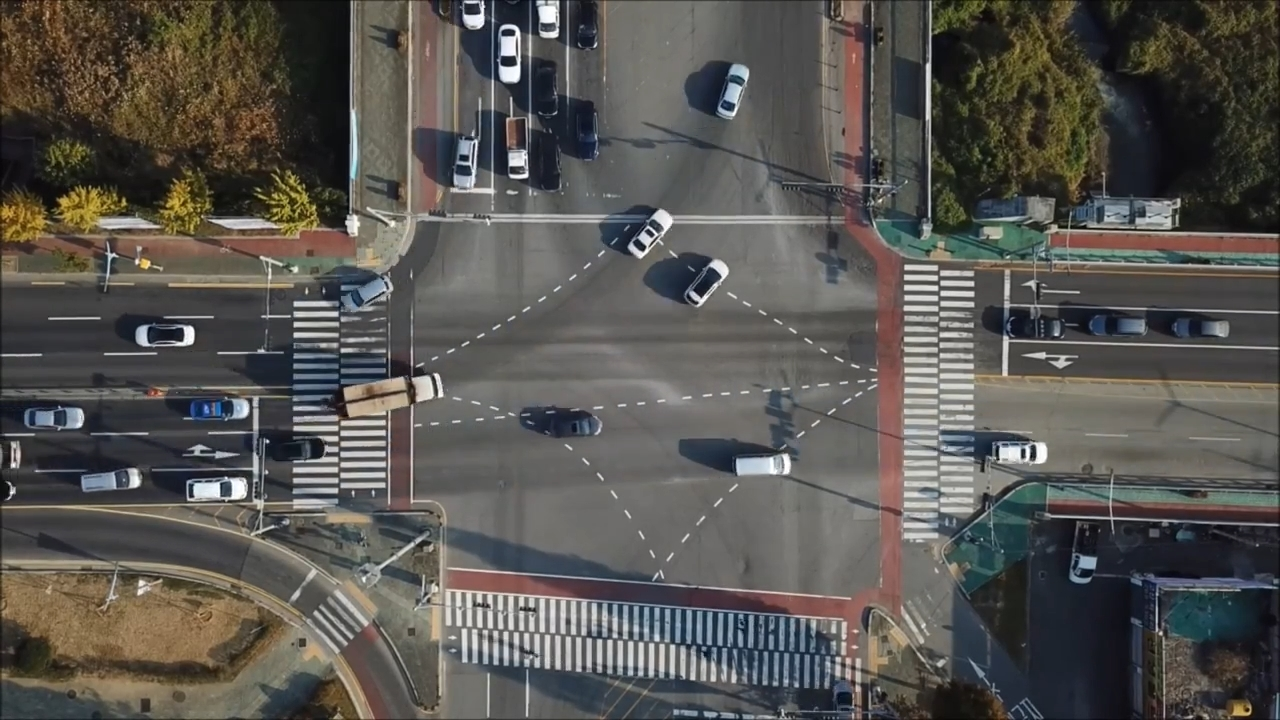car: (333, 372, 445, 419), (628, 206, 676, 258), (682, 260, 732, 308), (713, 61, 752, 120), (341, 273, 394, 314), (450, 133, 487, 189), (1067, 521, 1097, 586), (1171, 313, 1233, 341), (492, 21, 519, 85), (1089, 312, 1150, 339), (990, 438, 1051, 465), (79, 468, 144, 493), (534, 124, 559, 189), (186, 477, 251, 501), (190, 397, 252, 422), (1011, 317, 1075, 341), (136, 322, 195, 348), (502, 113, 526, 175), (532, 55, 557, 114), (730, 455, 793, 477), (272, 437, 325, 463), (23, 408, 85, 430), (546, 415, 604, 438), (574, 102, 596, 162), (832, 677, 860, 720), (573, 1, 595, 50), (533, 1, 559, 36), (459, 1, 486, 32)
